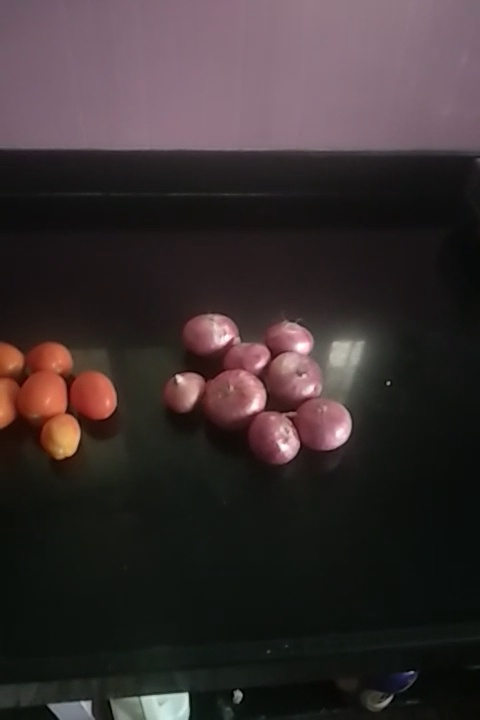onion: (246, 412, 306, 467), (203, 370, 265, 423), (260, 353, 322, 404), (296, 399, 353, 454), (183, 312, 237, 353), (217, 342, 282, 373), (162, 367, 201, 414), (272, 319, 318, 358)
tomato: (72, 368, 120, 422), (23, 370, 66, 423), (23, 340, 83, 376), (47, 409, 81, 457), (1, 380, 24, 433), (1, 345, 27, 381)
